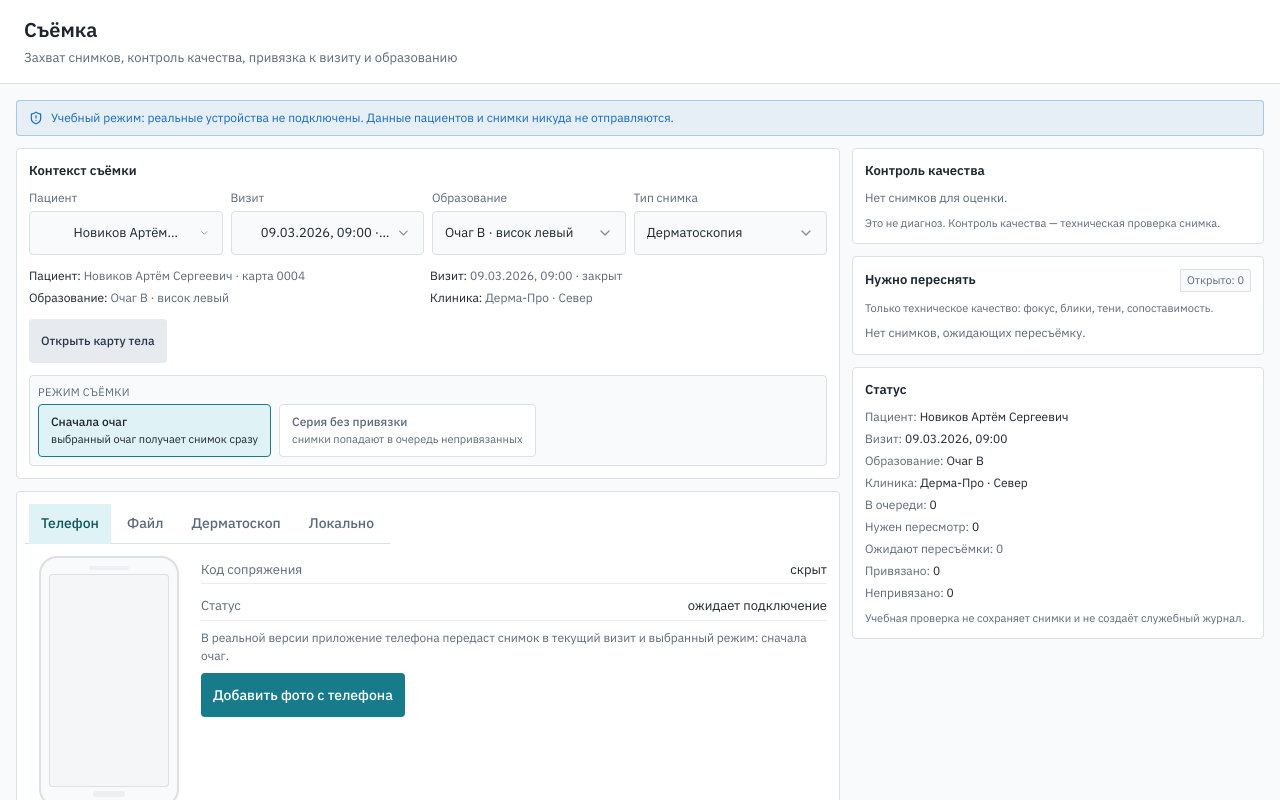
Test: CapturePage · Batch B capture workflow › shows a technical photo-quality gate with retake reason instead of clinical interpretation
The image size is (1280, 800).
Click the button "Добавить фото с телефона" at {"x": 303, "y": 694}, box [201, 672, 405, 716]
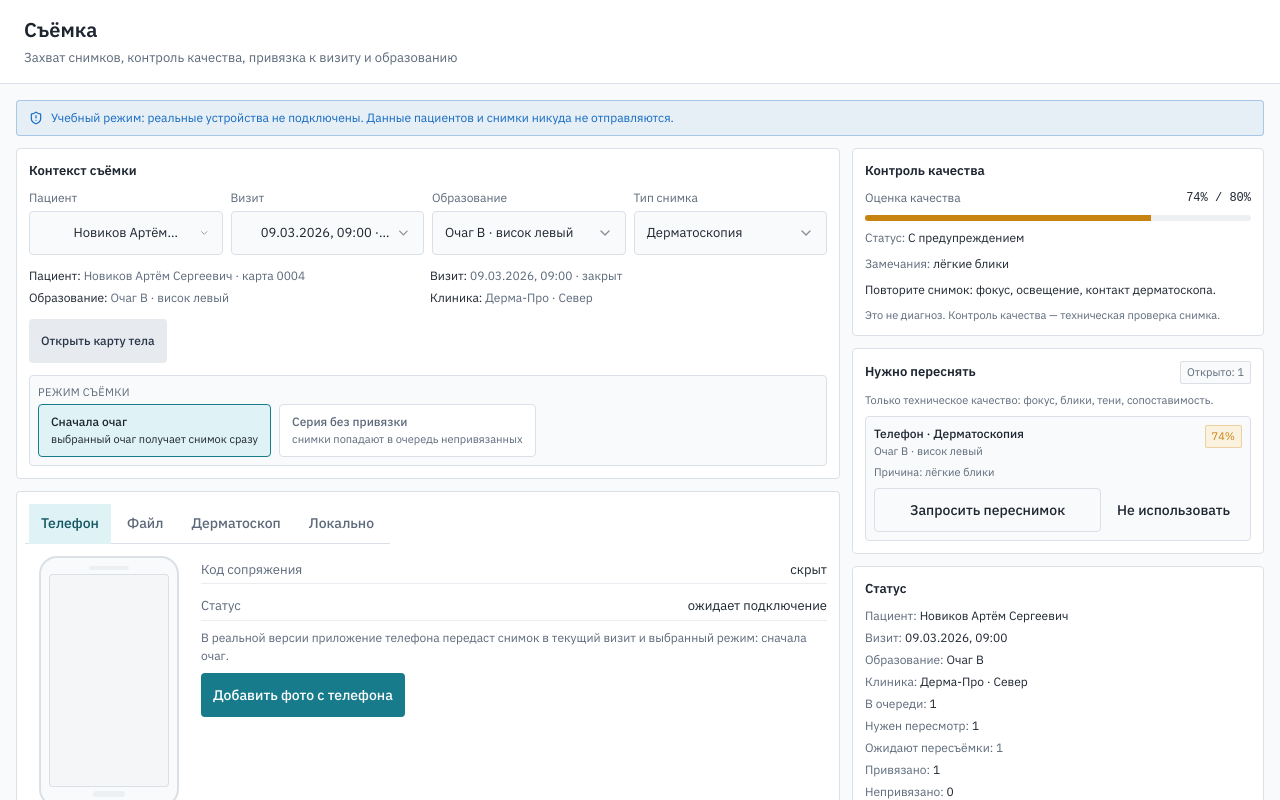
Check: the text "Это не диагноз" is shown, box [865, 308, 1220, 322]
Check: the text "лёгкие блики" is shown, box [933, 256, 1009, 270]
